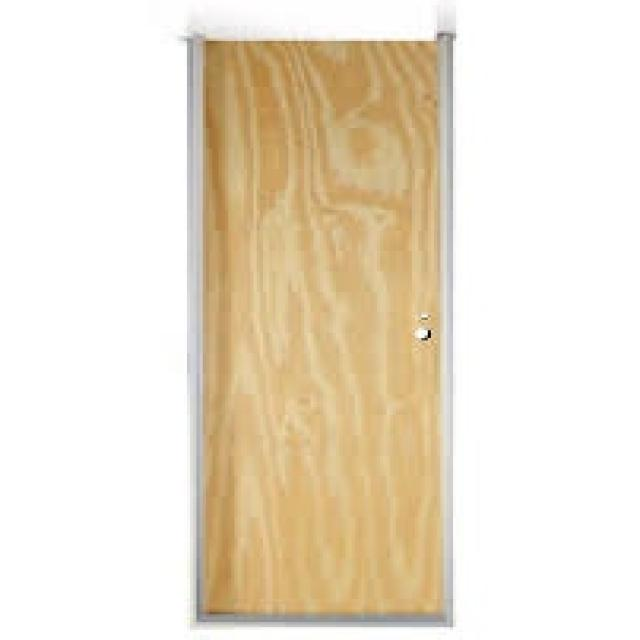door: (188, 34, 454, 628)
